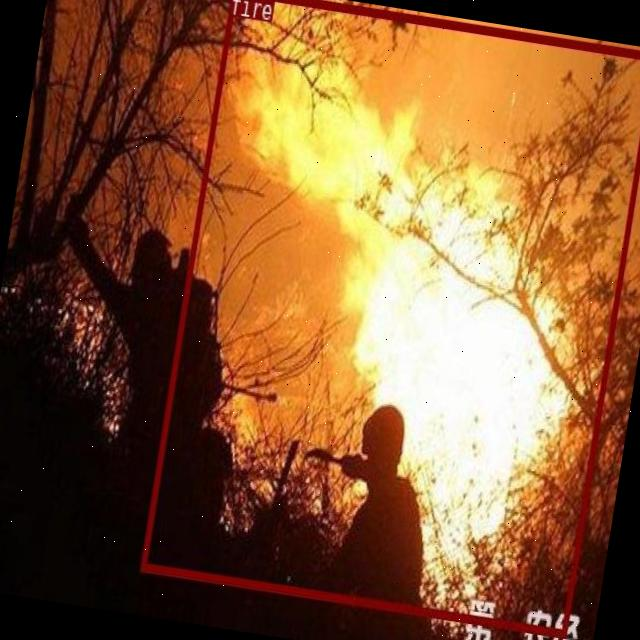fire: (141, 0, 640, 635)
